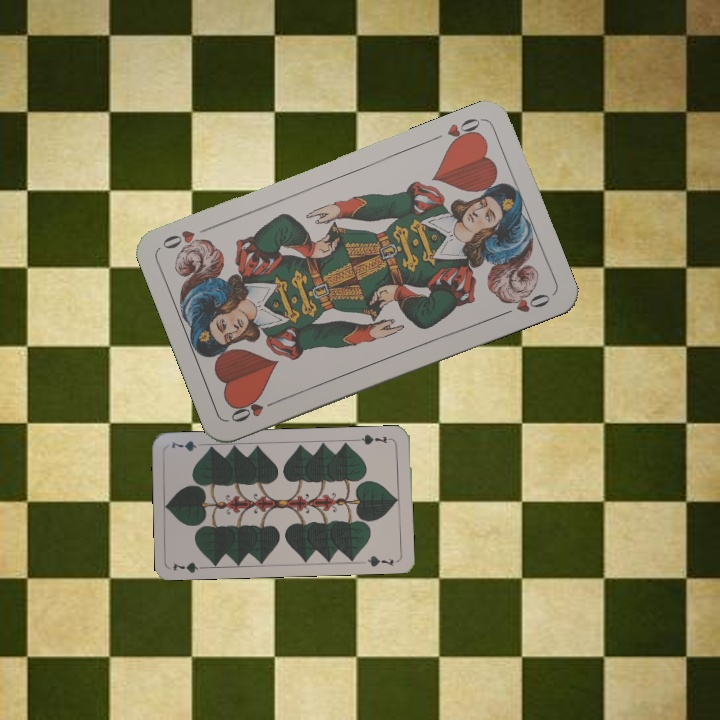G7: (354, 430, 395, 447), (169, 559, 210, 575)
HO: (226, 394, 283, 425), (443, 114, 484, 150)
